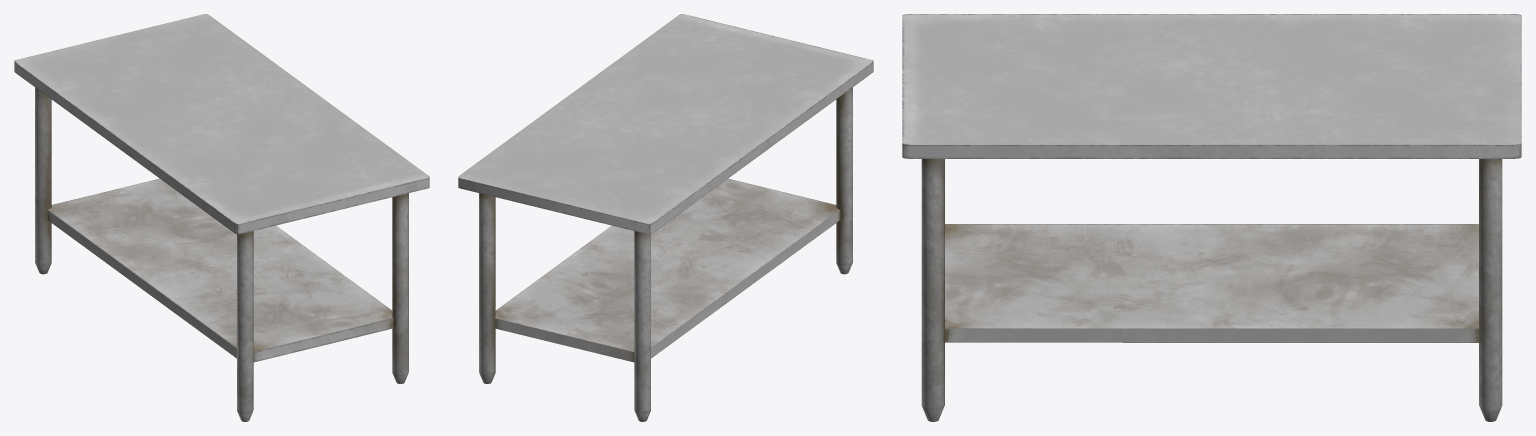
File: Lab Table.fbx
The picture shows the model from 3 angles, left to right: view 1: azimuth 30°, elevation 25°; view 2: azimuth 150°, elevation 25°; view 3: azimuth 270°, elevation 25°; orthographic projection. The views are drawn at different scales.
Visible parts, largest first — view 1: LabTable; view 2: LabTable; view 3: LabTable.
Boxes of the visible parts, x1,y1,x2,y2 form: LabTable: [14, 14, 429, 421]; LabTable: [458, 14, 873, 421]; LabTable: [902, 14, 1521, 421].
Bounding box in the file's own units: 100 × 103 × 200.
